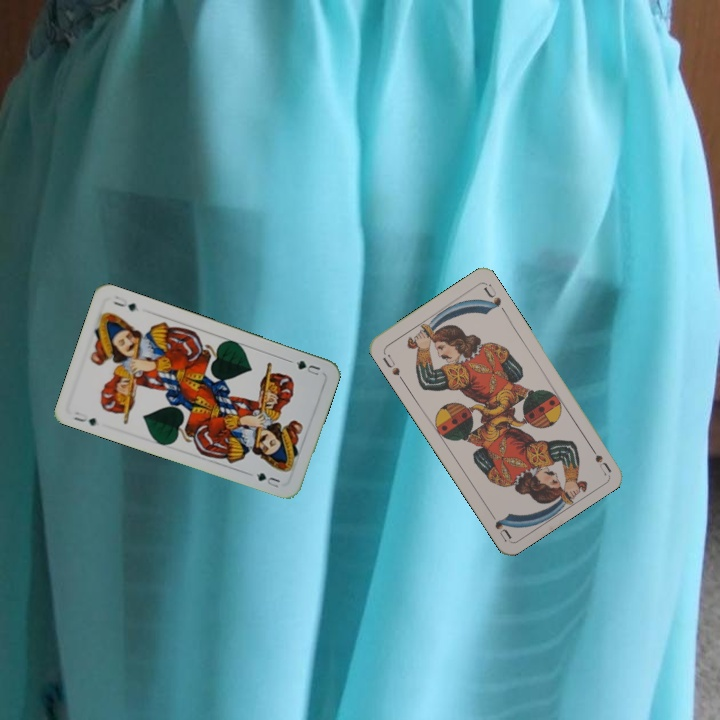GU: (292, 356, 323, 378), (70, 408, 99, 429)
SU: (584, 439, 613, 477), (378, 350, 406, 384)
